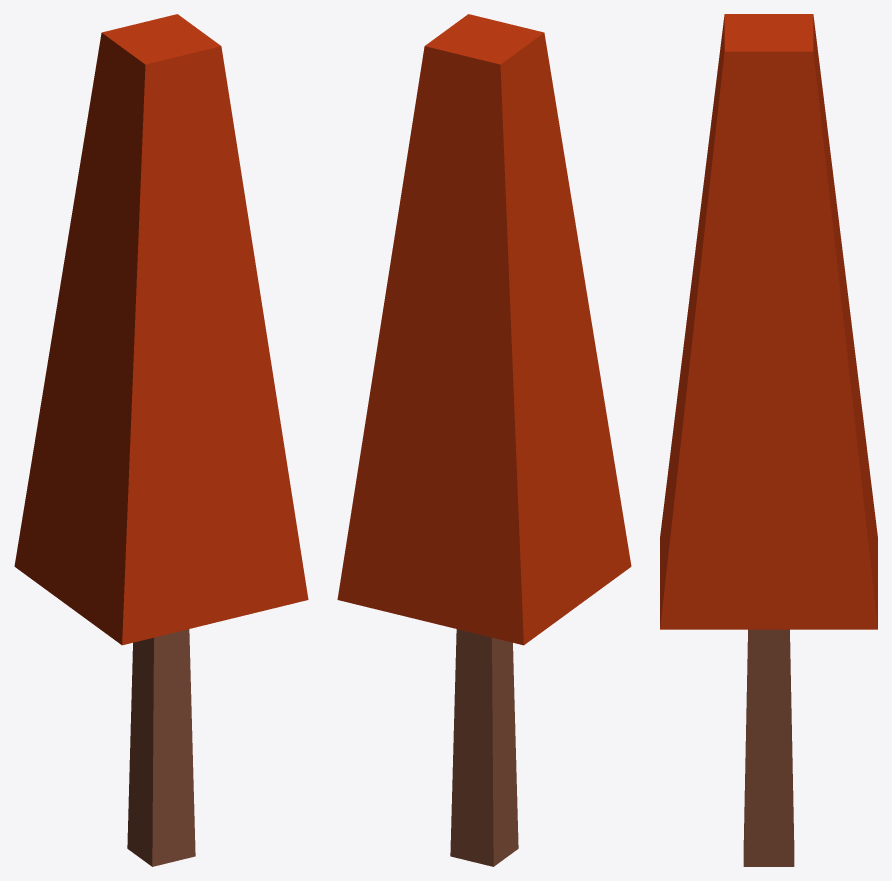
Rendered from Tree_26_summer_red_mat.fbx.
The picture shows the model from 3 angles, left to right: view 1: azimuth 30°, elevation 25°; view 2: azimuth 150°, elevation 25°; view 3: azimuth 270°, elevation 25°; orthographic projection.
Visible parts, largest first — view 1: Tree_26_summer_red_mat; view 2: Tree_26_summer_red_mat; view 3: Tree_26_summer_red_mat.
Boxes of the visible parts, x1=… form: Tree_26_summer_red_mat: x1=14, y1=14, x2=308, y2=866; Tree_26_summer_red_mat: x1=337, y1=14, x2=631, y2=866; Tree_26_summer_red_mat: x1=660, y1=14, x2=877, y2=866.
Size of the model in its own units: 63.19 by 263 by 63.19.
